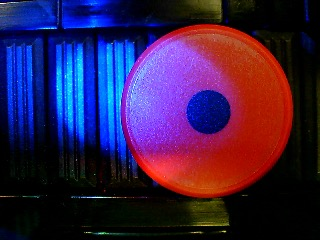BOHO: (121, 23, 293, 198)
